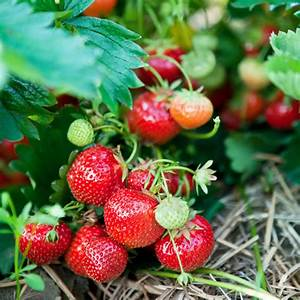Fresa: (151, 207, 223, 279), (100, 184, 169, 255), (64, 142, 132, 208), (13, 212, 75, 271), (80, 233, 130, 288)
